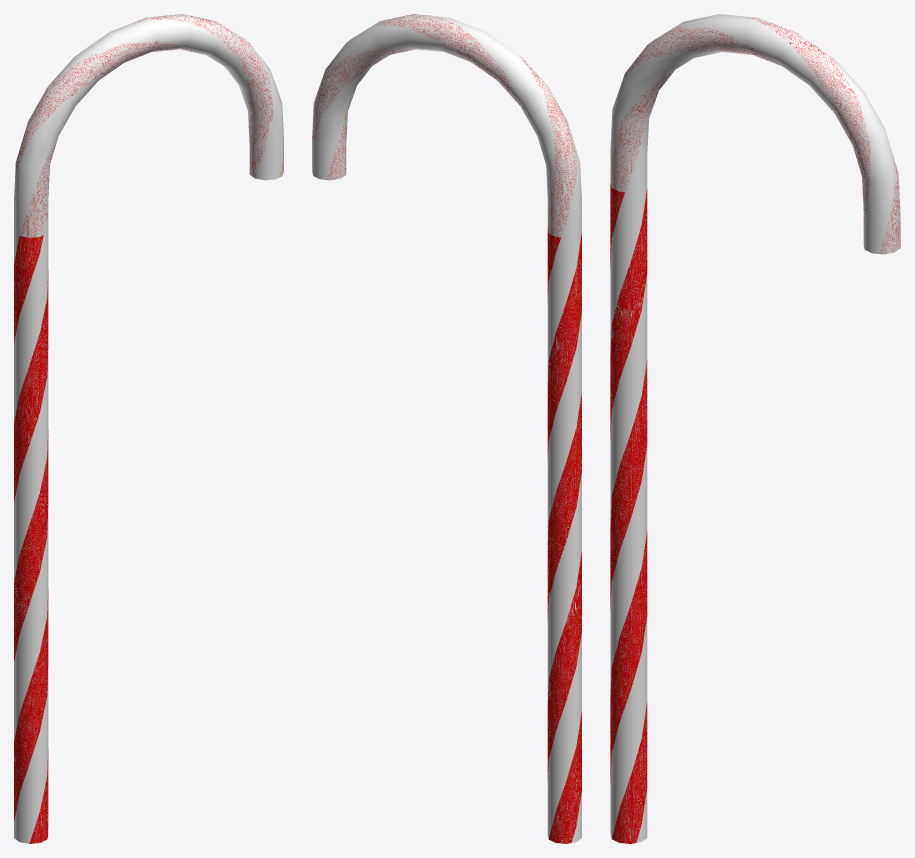
The model's file is candy cane.dae.
3 views of the same model, side by side, from view 1: azimuth 30°, elevation 25°; view 2: azimuth 150°, elevation 25°; view 3: azimuth 330°, elevation 25° (orthographic). The views are drawn at different scales.
Visible parts, largest first — view 1: Hooked_Candy_Cane (×7); view 2: Hooked_Candy_Cane (×7); view 3: Hooked_Candy_Cane (×7).
Part boxes in pixels (box(x1,y1,x2,y2)): Hooked_Candy_Cane (×7): box(14, 14, 283, 843); Hooked_Candy_Cane (×7): box(312, 14, 581, 843); Hooked_Candy_Cane (×7): box(610, 14, 900, 843).
Size of the model in its own units: 49.56 by 5.71 by 141.
